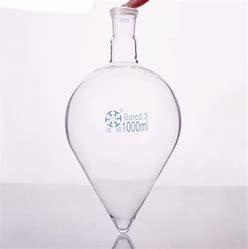Pear shaped flask: (59, 14, 179, 229)
